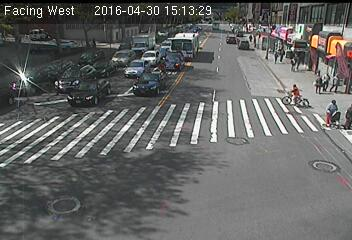neg: (138, 139, 168, 179), (95, 149, 125, 189), (185, 175, 215, 215), (69, 76, 98, 114), (180, 101, 208, 139), (230, 173, 257, 208), (281, 75, 307, 110), (133, 72, 157, 105), (18, 61, 42, 93), (295, 156, 319, 188), (200, 42, 223, 73), (66, 188, 89, 217), (236, 128, 258, 158)
pos: (320, 95, 341, 123), (310, 71, 325, 90), (323, 70, 336, 87), (278, 44, 290, 61), (332, 73, 344, 88), (291, 54, 302, 68), (269, 50, 279, 64), (248, 31, 257, 43)
